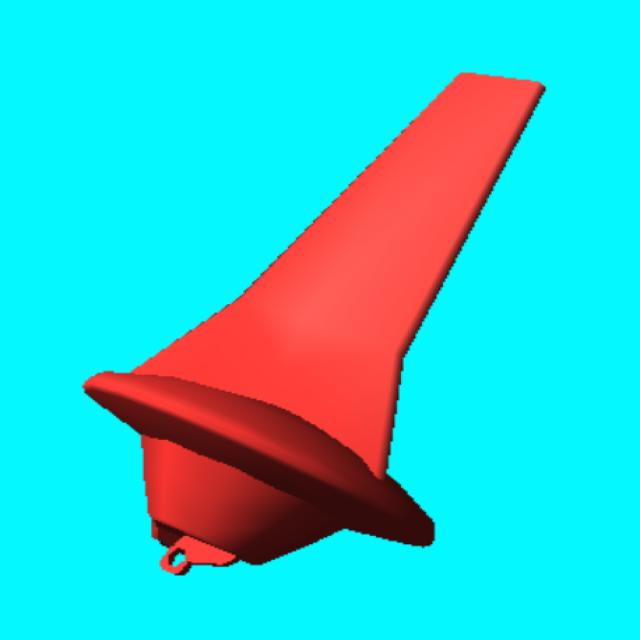RedBuoy: (84, 74, 544, 574)
